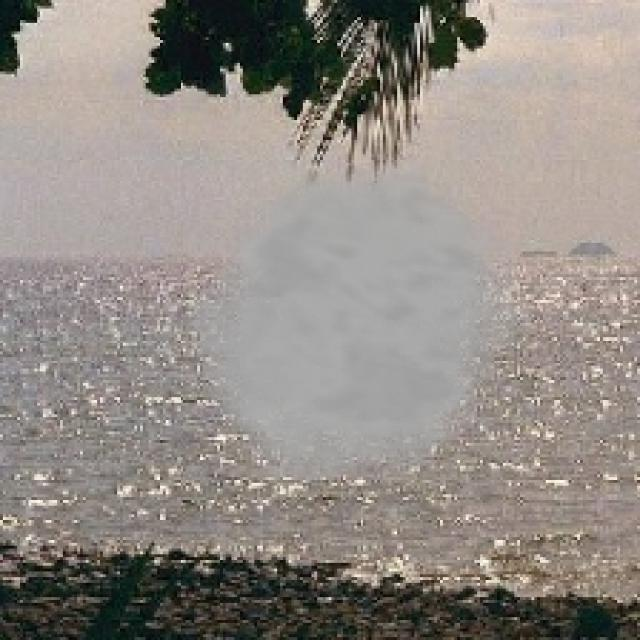Smoke: (175, 155, 540, 500)
